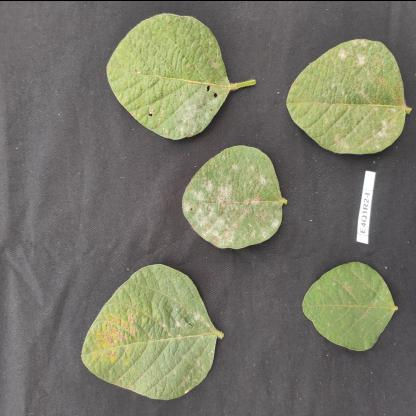label: (353, 167, 381, 246)
leaflets: (74, 258, 229, 402), (98, 5, 238, 143), (283, 32, 411, 158), (180, 136, 288, 258), (298, 252, 404, 358)
